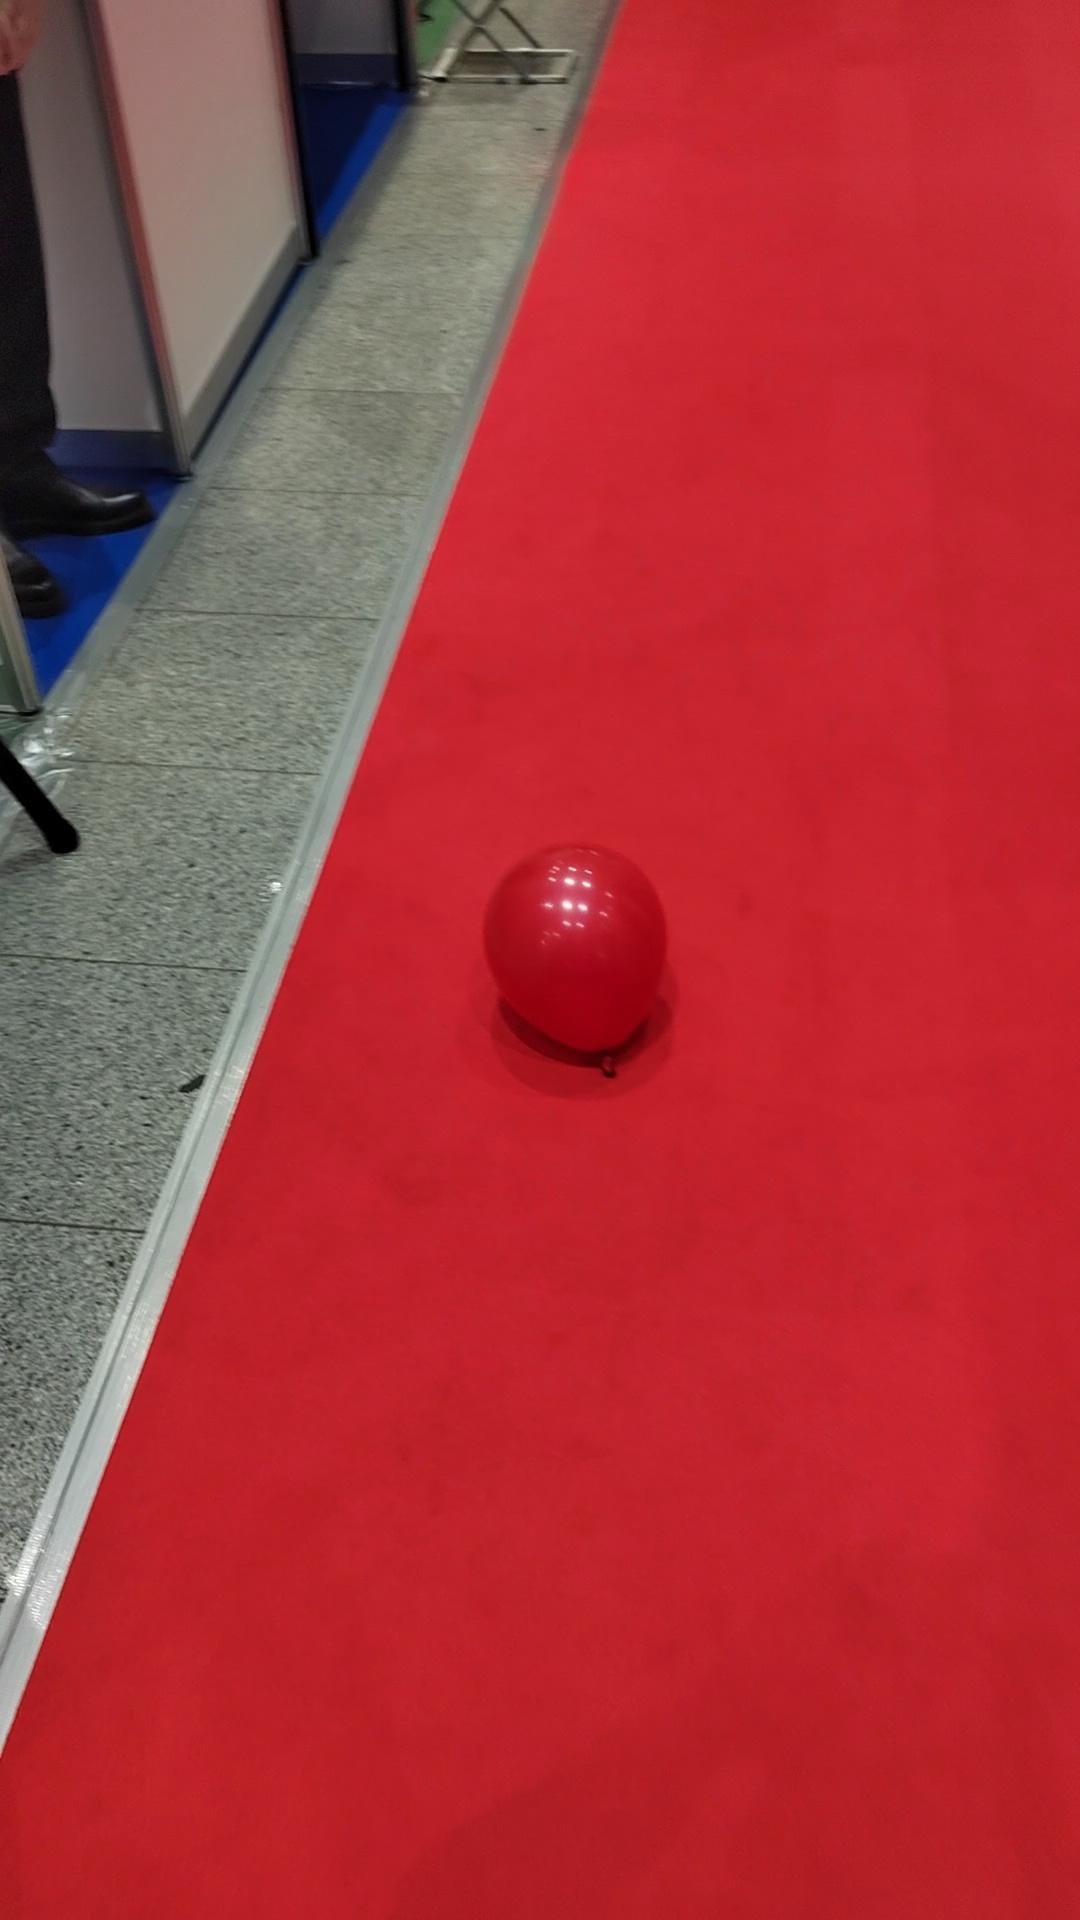red: (483, 844, 666, 1057)
